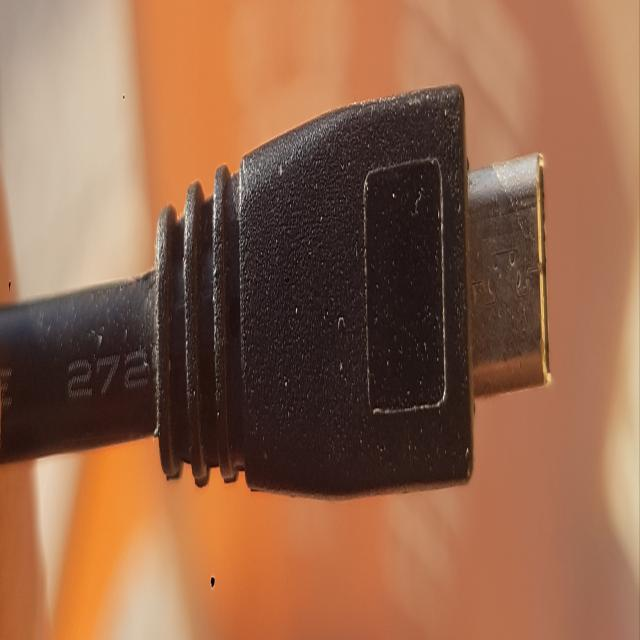electronic: (1, 82, 553, 499)
